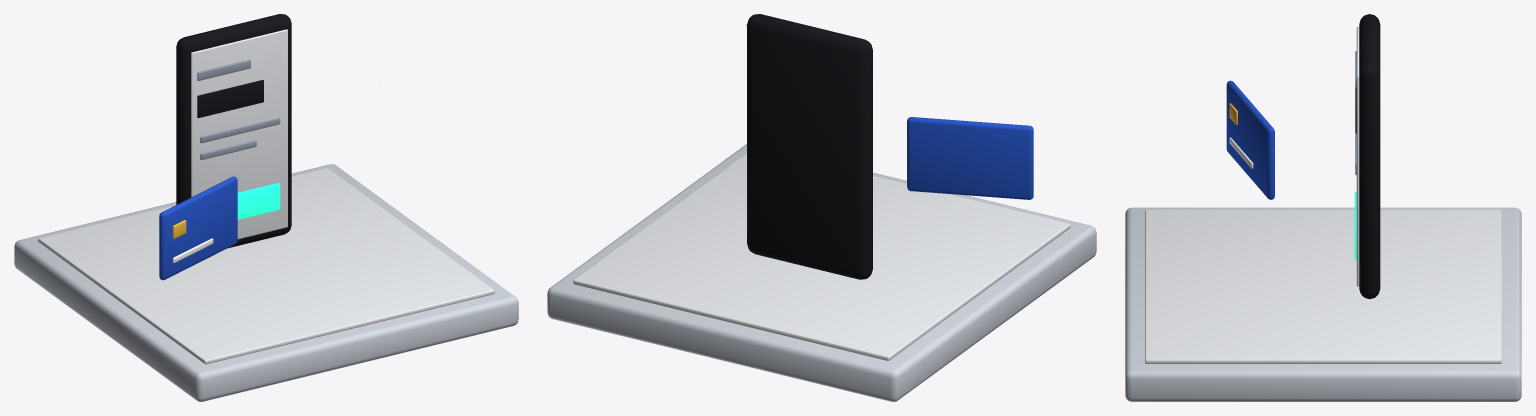
File: step-2.glb
3 renders of one model, left to right at view 1: azimuth 30°, elevation 25°; view 2: azimuth 150°, elevation 25°; view 3: azimuth 270°, elevation 25°, orthographic. The views are drawn at different scales.
Parts seen in each view (by area): view 1: Step2_floor, Step2_slab, s2_screen, s2_phone, s2_card_body, s2_amount, s2_button_body, s2_item1, s2_merchant; view 2: Step2_floor, s2_phone, Step2_slab, s2_card_body; view 3: Step2_floor, Step2_slab, s2_phone, s2_card_body, s2_screen.
Part boxes in pixels (x1,y1,x2,y2): Step2_floor: [38, 168, 494, 364]; Step2_slab: [14, 164, 518, 401]; s2_screen: [191, 29, 287, 239]; s2_phone: [176, 14, 291, 248]; s2_card_body: [159, 176, 237, 280]; s2_amount: [197, 80, 263, 117]; s2_button_body: [237, 183, 280, 219]; s2_item1: [200, 117, 280, 143]; s2_merchant: [197, 59, 250, 80]; Step2_floor: [573, 153, 1070, 360]; s2_phone: [747, 14, 872, 279]; Step2_slab: [547, 144, 1096, 401]; s2_card_body: [907, 117, 1033, 199]; Step2_floor: [1145, 209, 1501, 363]; Step2_slab: [1125, 207, 1521, 401]; s2_phone: [1359, 14, 1380, 299]; s2_card_body: [1226, 80, 1274, 199]; s2_screen: [1356, 26, 1359, 286].
Size of the model in its own units: 3 by 2.29 by 3.
